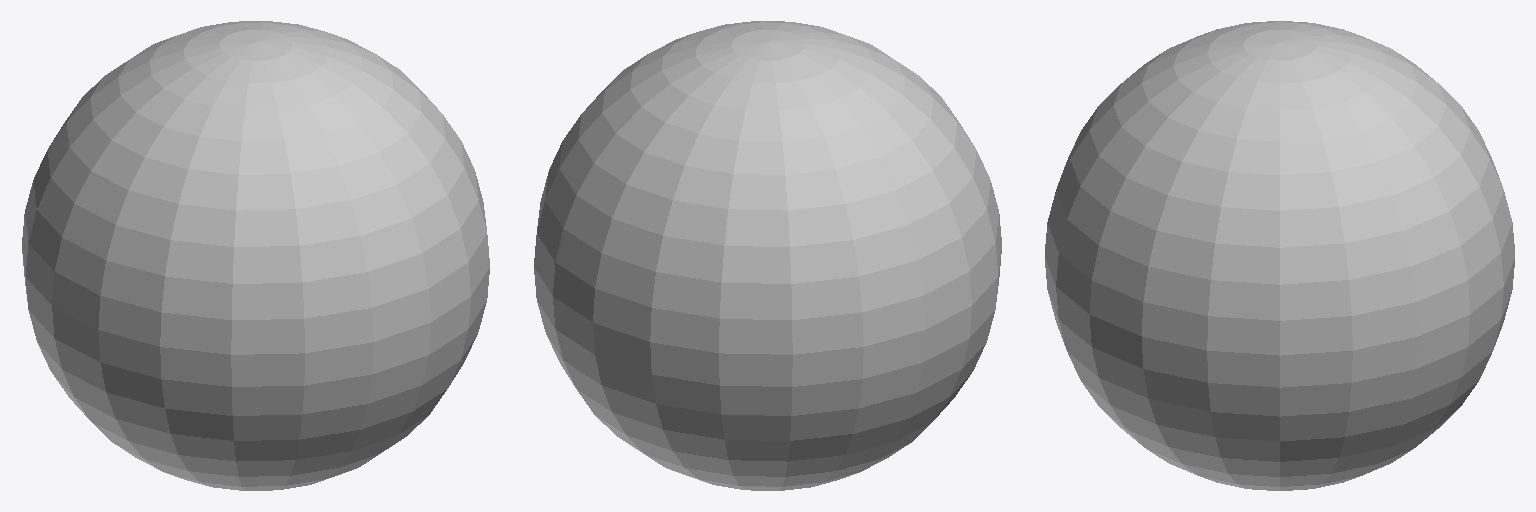
File: light-sphere.obj
The picture shows the model from 3 angles: view 1: azimuth 30°, elevation 25°; view 2: azimuth 150°, elevation 25°; view 3: azimuth 270°, elevation 25°; orthographic projection.
Parts seen in each view (by area): view 1: pSphere2; view 2: pSphere2; view 3: pSphere2.
Boxes of the visible parts, x1=… form: pSphere2: x1=22, y1=21, x2=489, y2=490; pSphere2: x1=534, y1=21, x2=1001, y2=490; pSphere2: x1=1045, y1=21, x2=1514, y2=490.
Bounding box in the file's own units: 0.4166 × 0.4166 × 0.4166.